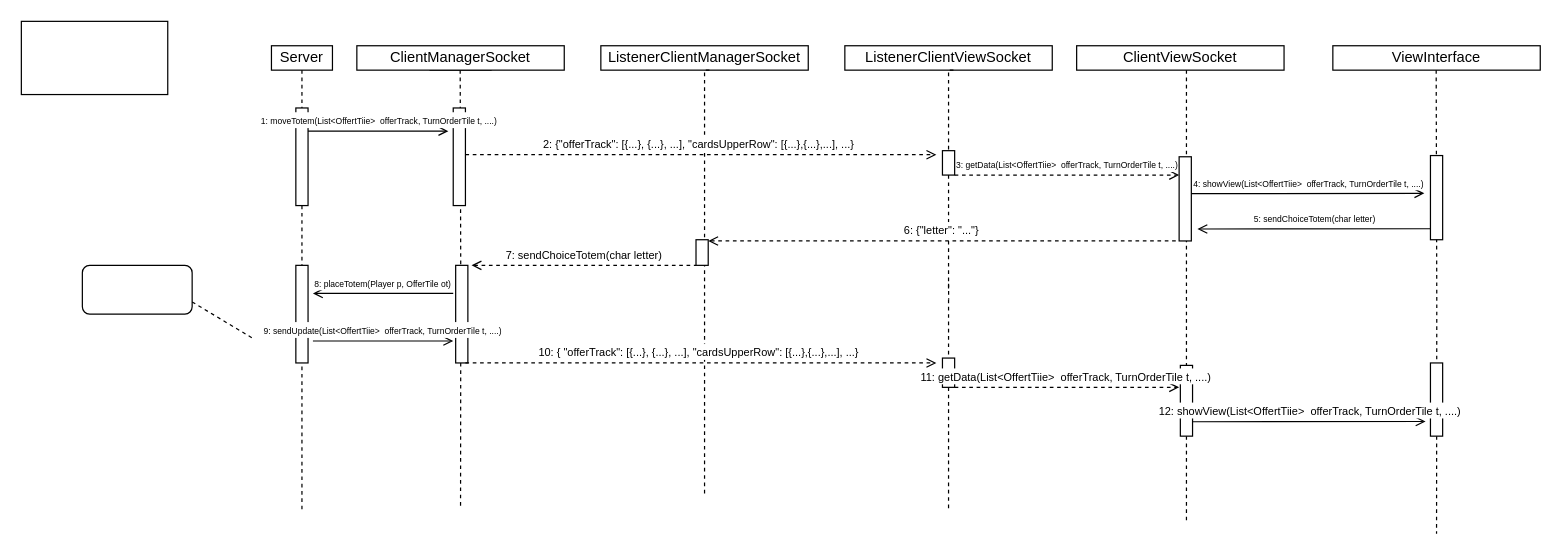
The diagram is 1562 pixels wide and 556 high, and some of its shapes have lost their labels. The shapes that lost their labels are listed below. From the top down, each one's box as (x1, y1, x2, y2) in pixels, then its label:
(20, 20, 168, 95): TOTEM PLACEMENT ON OFFER TILE
(81, 264, 192, 314): the player cannot click on a tile that is already taken
